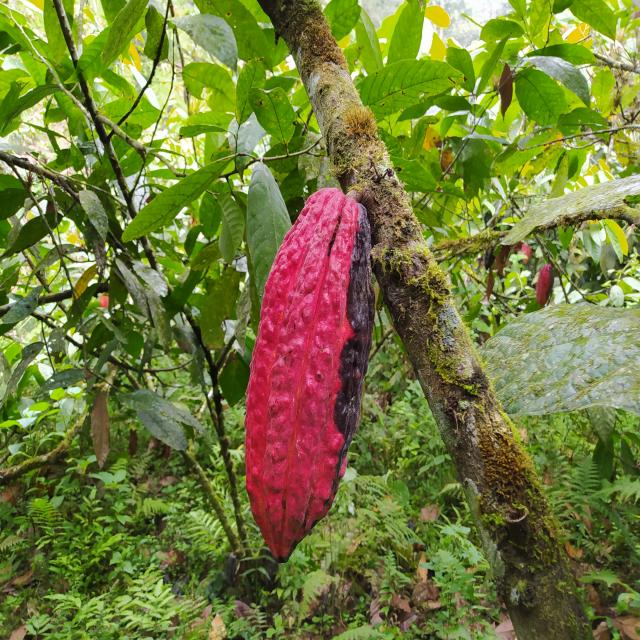Fitoftora: (244, 190, 375, 556)
Sana: (537, 260, 551, 308)
